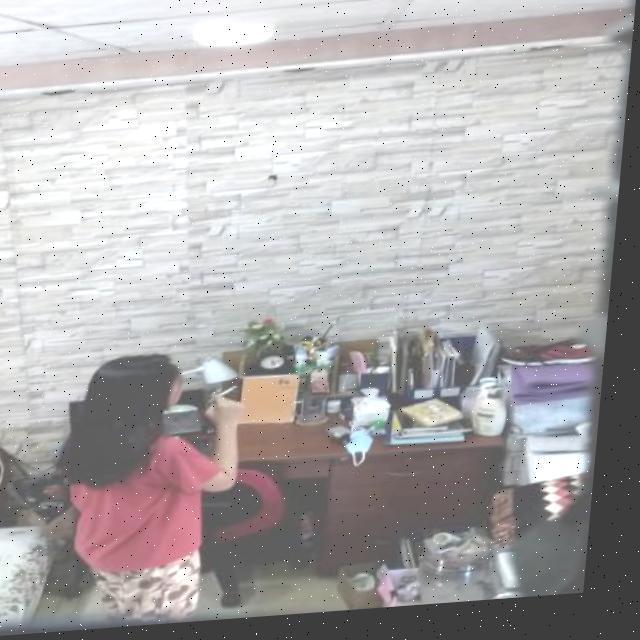cigarette: (226, 389, 247, 400)
